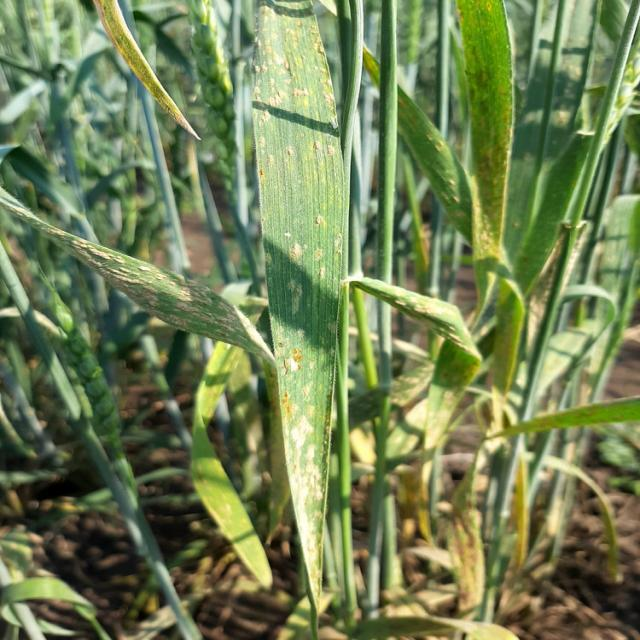wheat-powdery-mildew: (252, 0, 345, 640), (66, 239, 275, 384)
